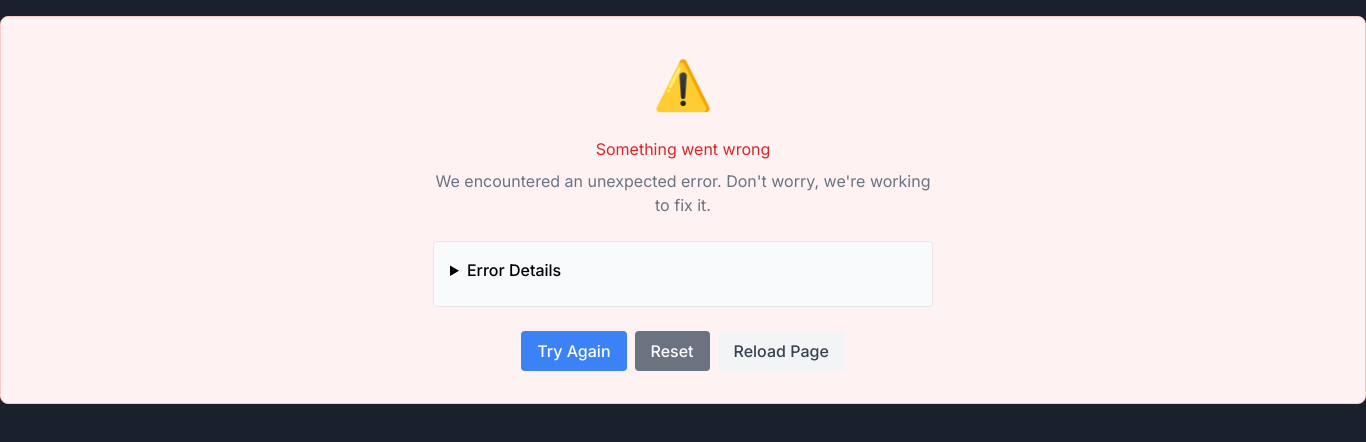
Test case: ErrorBoundary › Basic Error Handling › should display error details when expanded
What coordinates should you click on to do the following:
click the heading "Error Details"
I would click on:
 (514, 270)
Its box is [467,260,561,280].
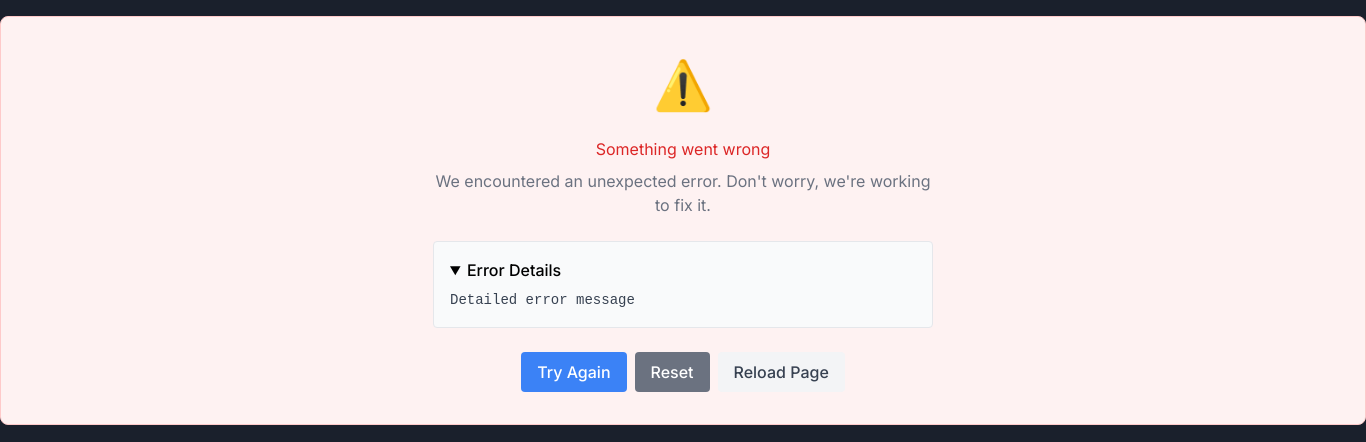
Check: the text "Detailed error message" is shown, box [450,292,635,308]
